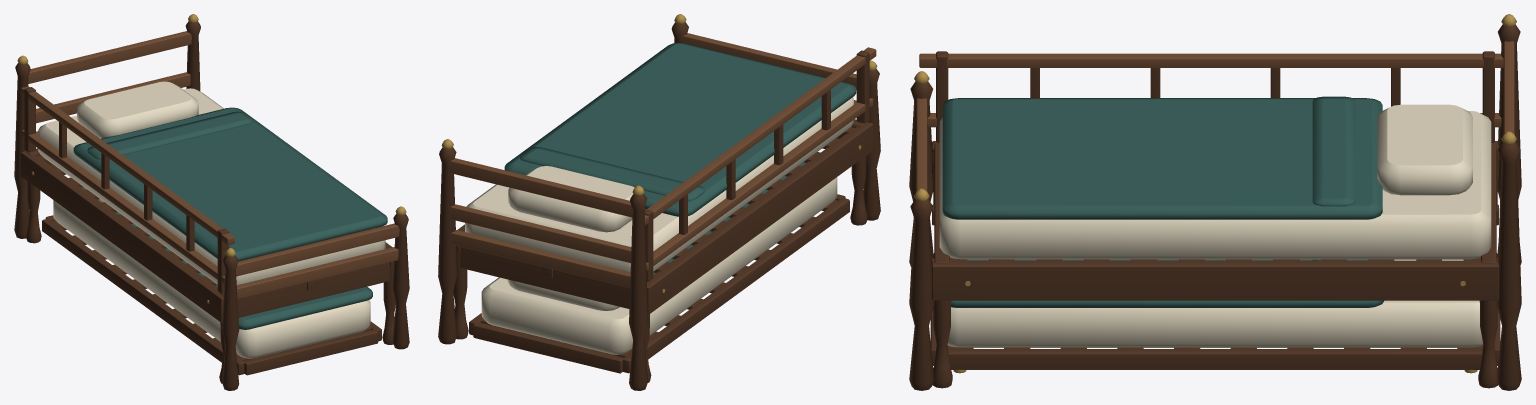
File: rpg-mansion-daybed-stowed-trundle-variant-01.glb
The picture shows the model from 3 angles, left to right: view 1: azimuth 30°, elevation 25°; view 2: azimuth 150°, elevation 25°; view 3: azimuth 270°, elevation 25°; orthographic projection. The views are drawn at different scales.
Parts seen in each view (by area): view 1: rpg-mansion-daybed-stowed-trundle-variant-01; view 2: rpg-mansion-daybed-stowed-trundle-variant-01; view 3: rpg-mansion-daybed-stowed-trundle-variant-01.
Boxes of the visible parts, box(x1,y1,x2,y2) form: rpg-mansion-daybed-stowed-trundle-variant-01: box(14, 14, 409, 390); rpg-mansion-daybed-stowed-trundle-variant-01: box(438, 14, 880, 390); rpg-mansion-daybed-stowed-trundle-variant-01: box(909, 14, 1521, 390).
Size of the model in its own units: 1.06 by 0.98 by 2.14.
